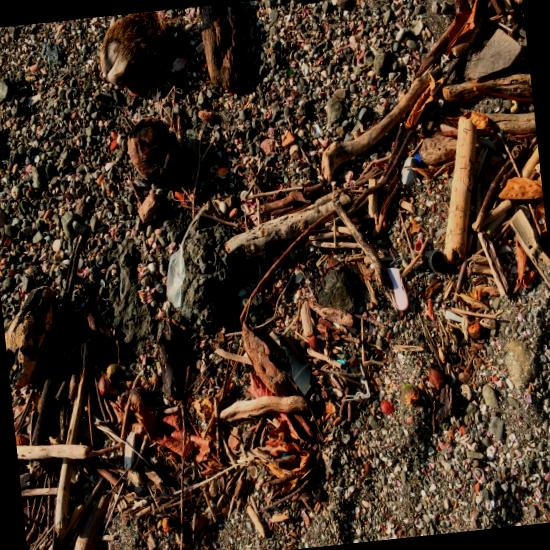Other plastic bottle: (275, 334, 314, 396), (342, 363, 370, 401), (386, 268, 409, 312), (445, 310, 462, 322), (337, 359, 345, 365)
Plastic film: (167, 206, 206, 308)
Unlabeled litter: (424, 250, 445, 272)
